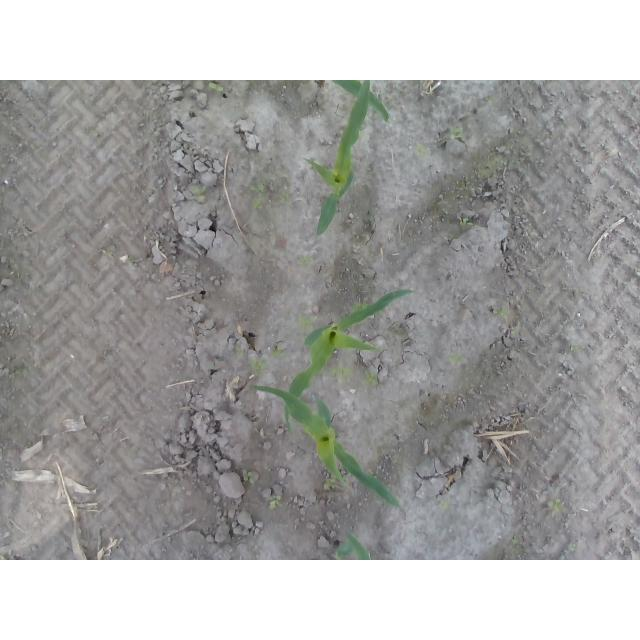Maize: (284, 290, 416, 437), (247, 386, 401, 511), (305, 81, 373, 236), (330, 81, 393, 124), (329, 530, 372, 560)
Weeds: (329, 359, 352, 385), (249, 184, 267, 211), (295, 314, 317, 335), (187, 185, 207, 203), (249, 358, 268, 375), (413, 145, 432, 160), (360, 371, 378, 386), (267, 495, 284, 510), (241, 468, 255, 486), (8, 257, 22, 275), (491, 307, 508, 321), (549, 500, 563, 517), (456, 216, 472, 229), (449, 127, 463, 141), (447, 351, 461, 365), (298, 256, 315, 267), (324, 478, 337, 492), (208, 83, 224, 94), (8, 368, 22, 380), (486, 94, 499, 106), (127, 257, 141, 268), (439, 499, 450, 512), (570, 340, 583, 350), (274, 350, 287, 359), (104, 249, 115, 259), (236, 346, 245, 354)
